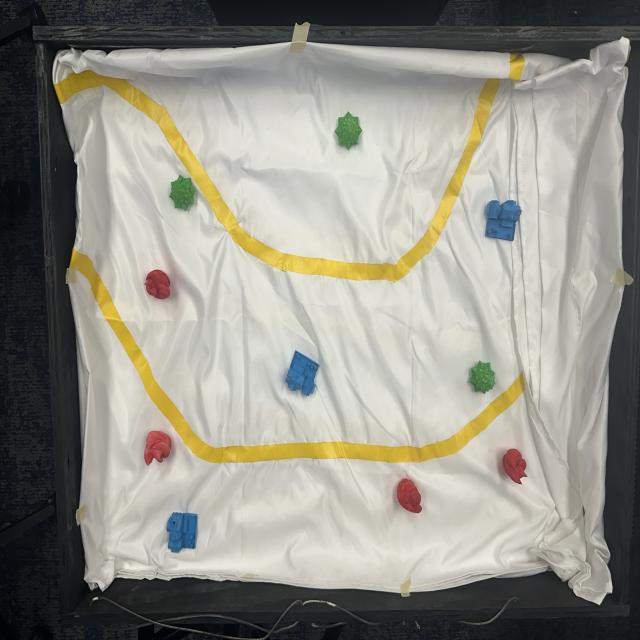fire: (144, 429, 172, 465), (502, 446, 528, 484), (397, 478, 423, 513), (146, 269, 172, 299)
house: (486, 198, 521, 242), (286, 352, 320, 396), (166, 512, 199, 554)
tree: (334, 111, 362, 152), (466, 360, 496, 395), (169, 173, 197, 210)
